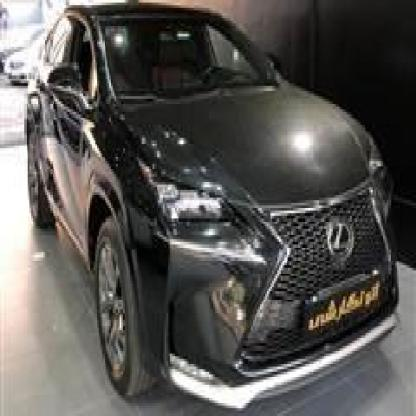Car: (26, 13, 404, 416), (0, 26, 47, 99)
